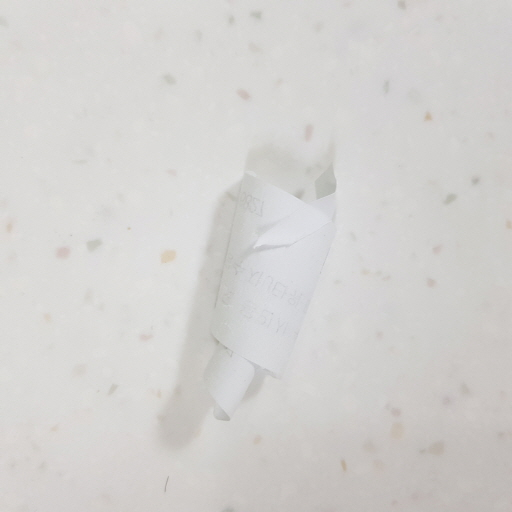Paper_3: (178, 151, 355, 449)
